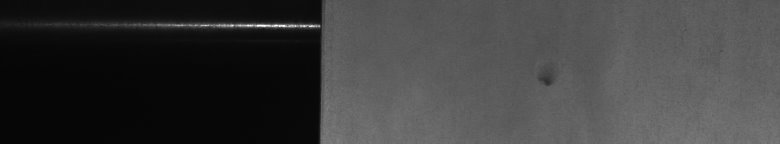fi: (536, 70, 556, 92)
